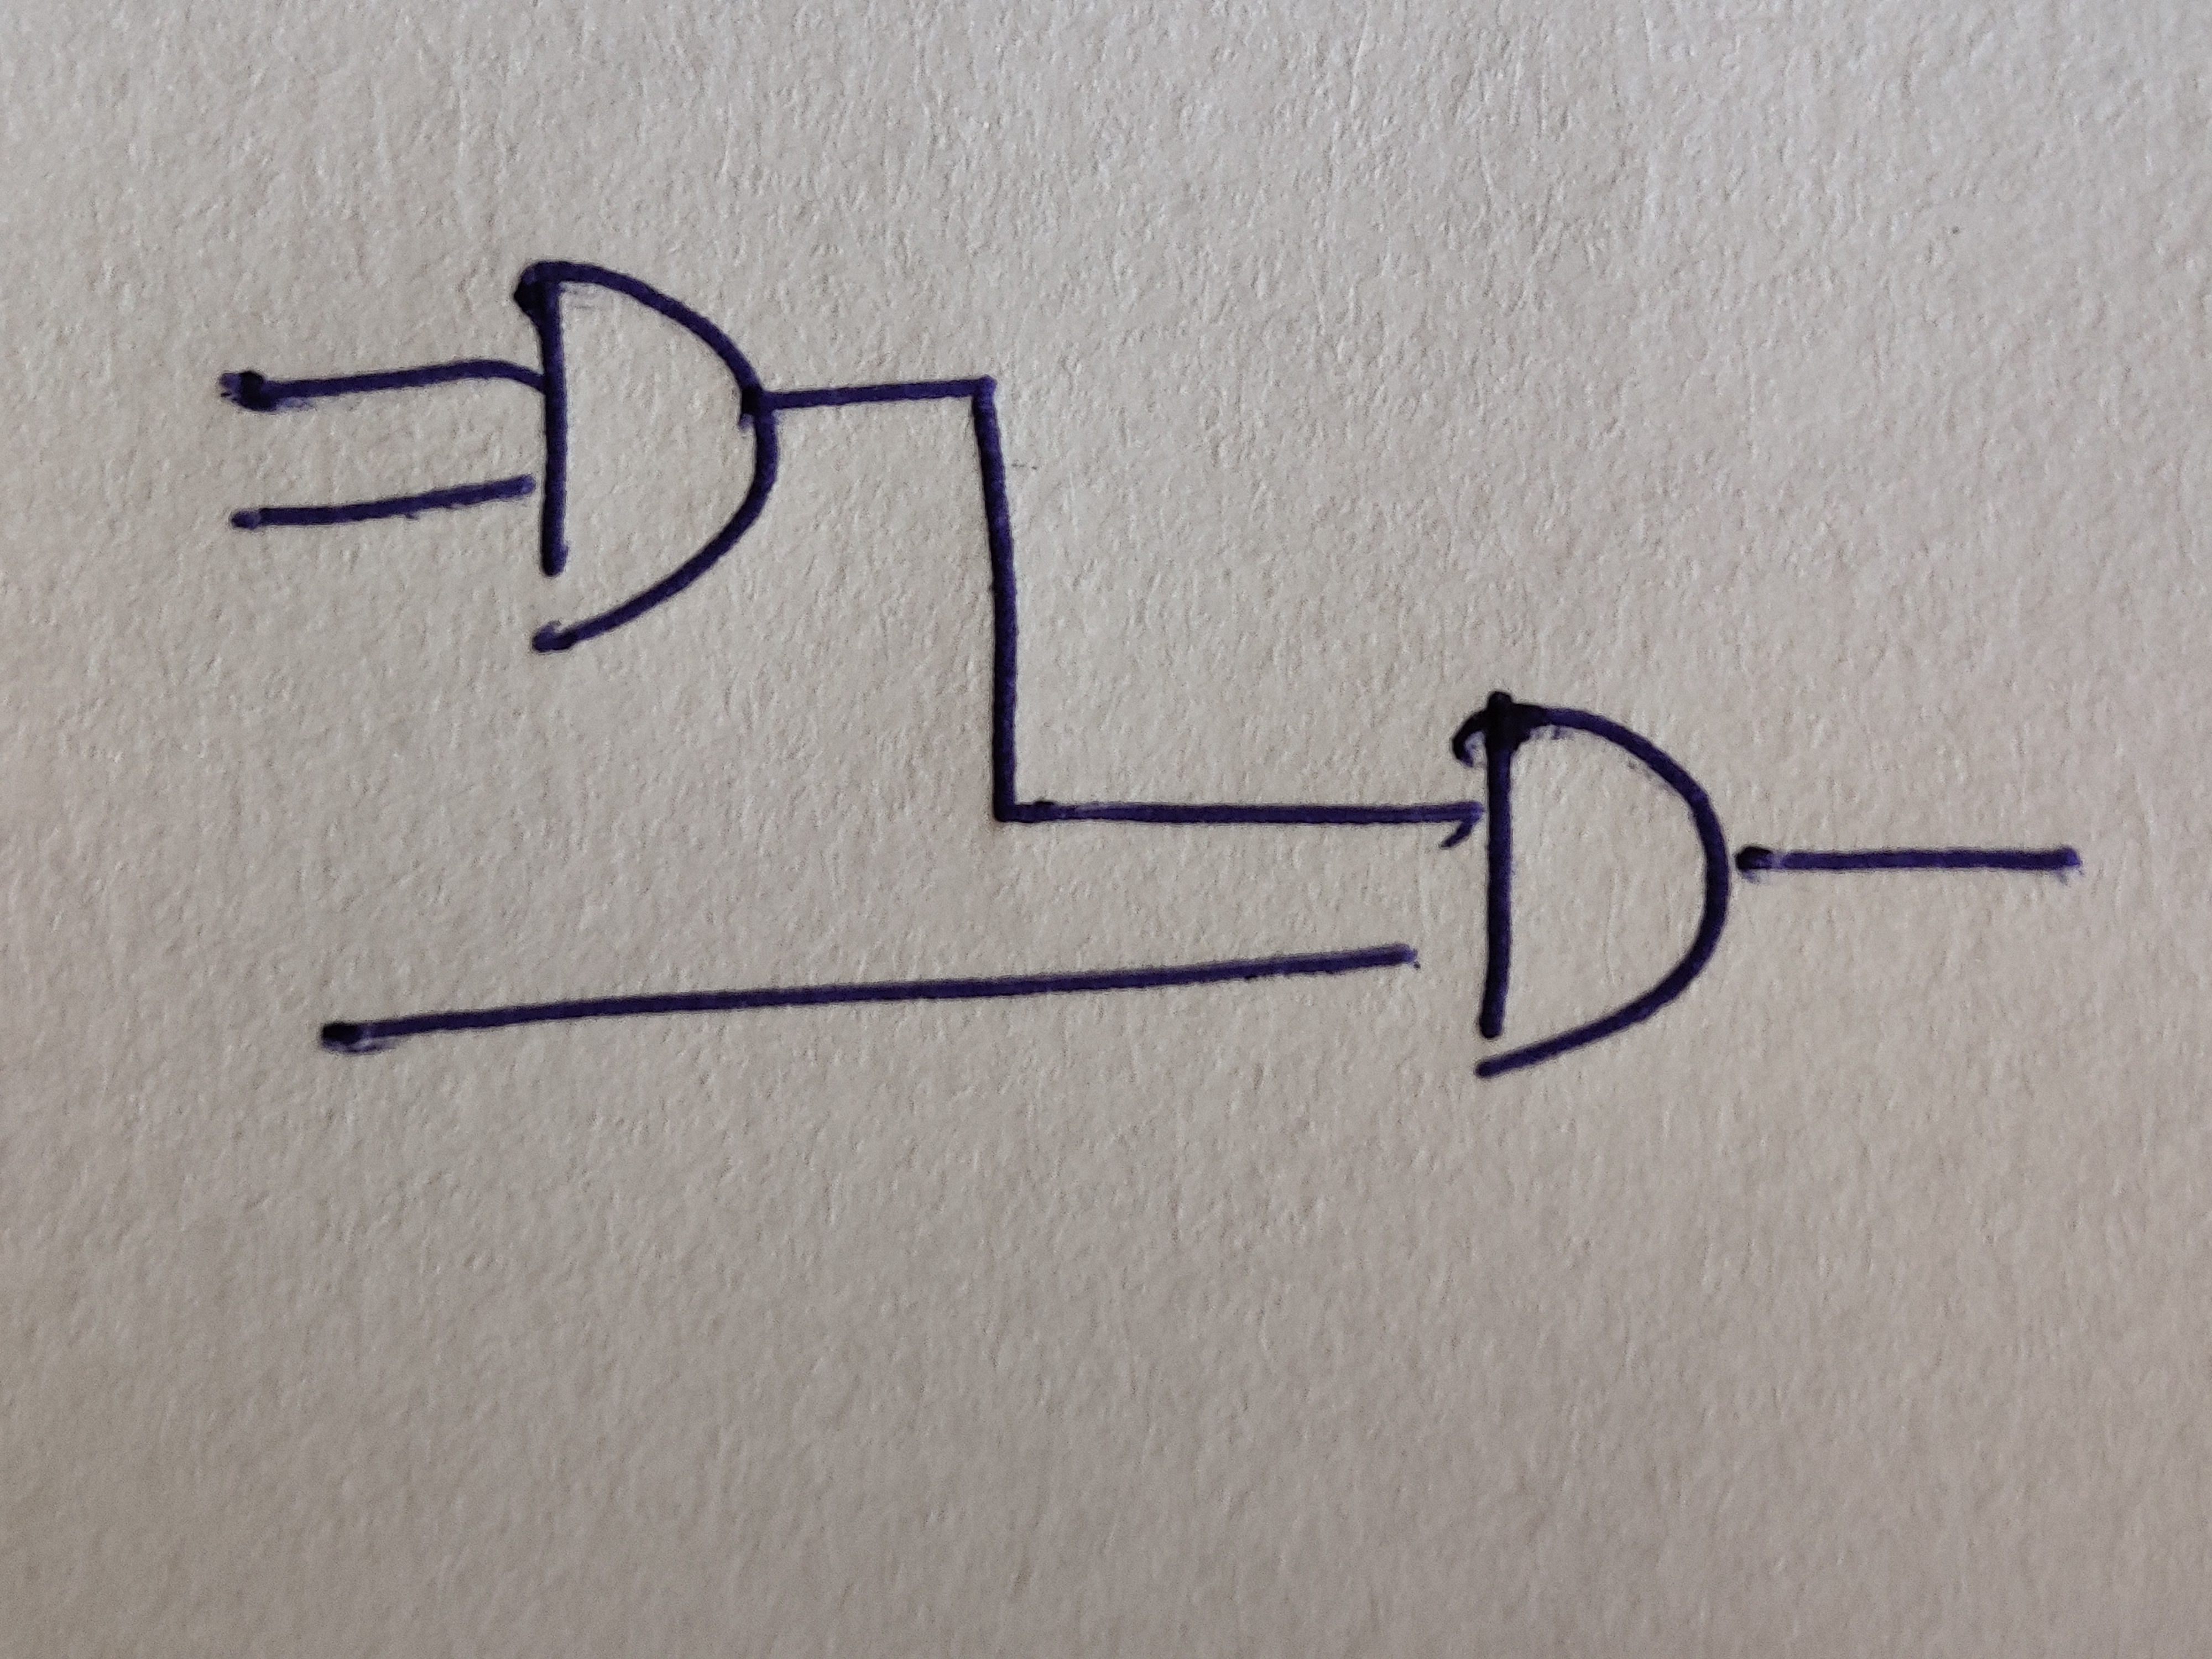and: (514, 261, 779, 652), (1480, 690, 1733, 1080)
